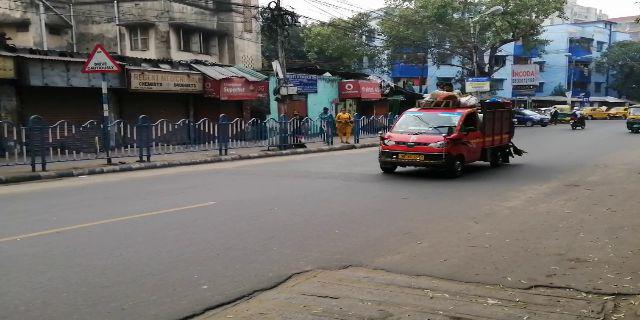Minitruck: (378, 107, 518, 178)
